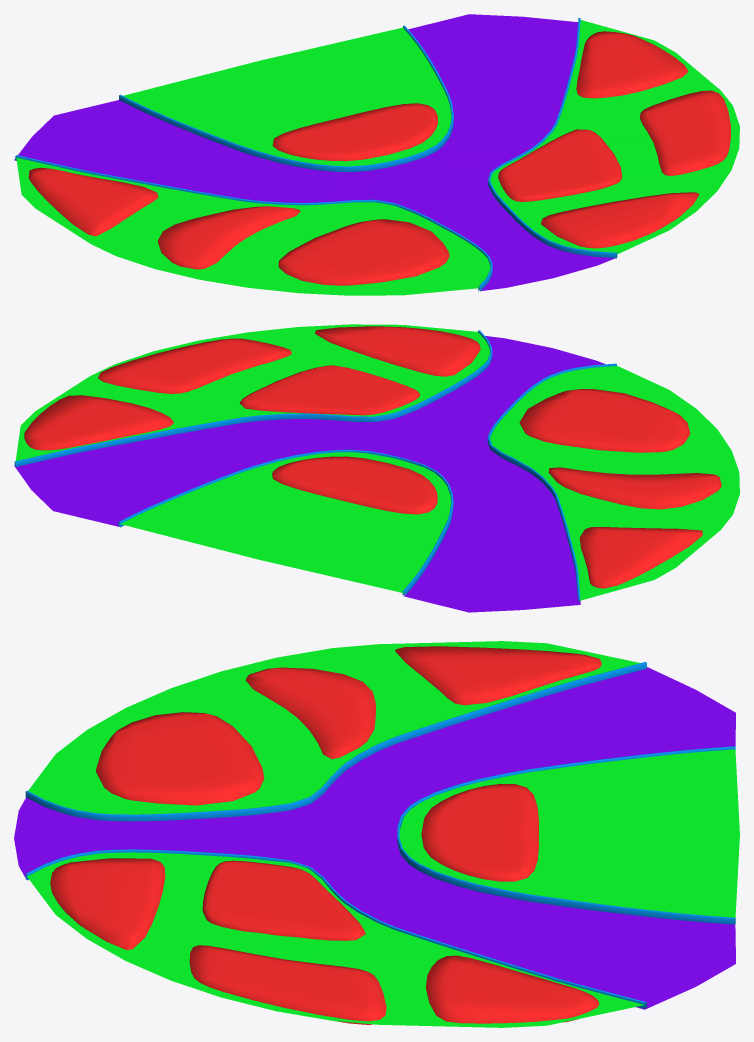
File: SM_Hall_Auditorium_Floor.fbx
3 views of the same model, one above another, from view 1: azimuth 30°, elevation 25°; view 2: azimuth 150°, elevation 25°; view 3: azimuth 270°, elevation 25° (orthographic). The views are drawn at different scales.
Parts seen in each view (by area): view 1: SM_Hall_Auditorium_Floor; view 2: SM_Hall_Auditorium_Floor; view 3: SM_Hall_Auditorium_Floor.
Part boxes in pixels (x1,y1,x2,y2): SM_Hall_Auditorium_Floor: (14, 14, 739, 295); SM_Hall_Auditorium_Floor: (14, 324, 739, 612); SM_Hall_Auditorium_Floor: (14, 641, 739, 1027).
Bounding box in the file's own units: 5716 × 60.39 × 4534.
